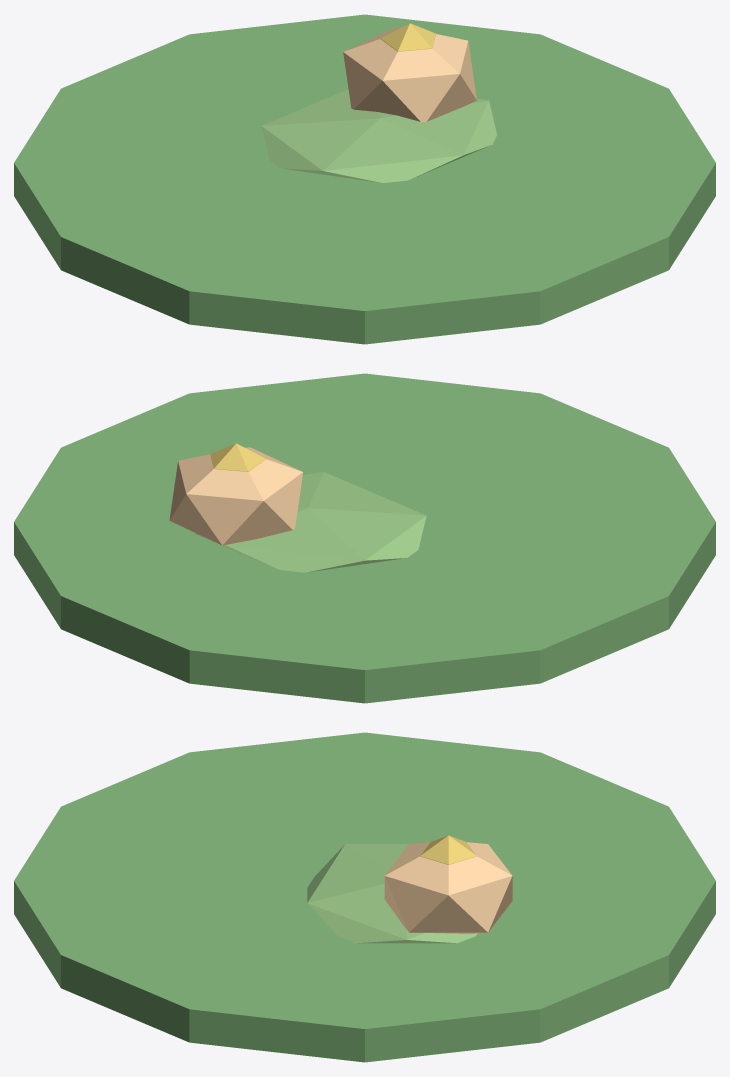
Rendered from lilypad.glb.
3 renders of one model, top to bottom at view 1: azimuth 30°, elevation 25°; view 2: azimuth 150°, elevation 25°; view 3: azimuth 270°, elevation 25°, orthographic.
Visible parts, largest first — view 1: pad, pad_highlight, bloom, bloom_centre; view 2: pad, pad_highlight, bloom, bloom_centre; view 3: pad, bloom, pad_highlight, bloom_centre.
Boxes of the visible parts, left/top/right/bottom form: pad: left=14, top=14, right=715, bottom=344; pad_highlight: left=261, top=89, right=496, bottom=183; bloom: left=343, top=27, right=476, bottom=121; bloom_centre: left=380, top=23, right=435, bottom=51; pad: left=14, top=373, right=715, bottom=703; pad_highlight: left=195, top=472, right=426, bottom=572; bloom: left=169, top=447, right=303, bottom=545; bloom_centre: left=210, top=443, right=265, bottom=471; pad: left=14, top=732, right=715, bottom=1062; bloom: left=384, top=842, right=512, bottom=933; pad_highlight: left=307, top=844, right=477, bottom=943; bloom_centre: left=420, top=835, right=476, bottom=864.
Size of the model in its own units: 0.84 by 0.16 by 0.84.
